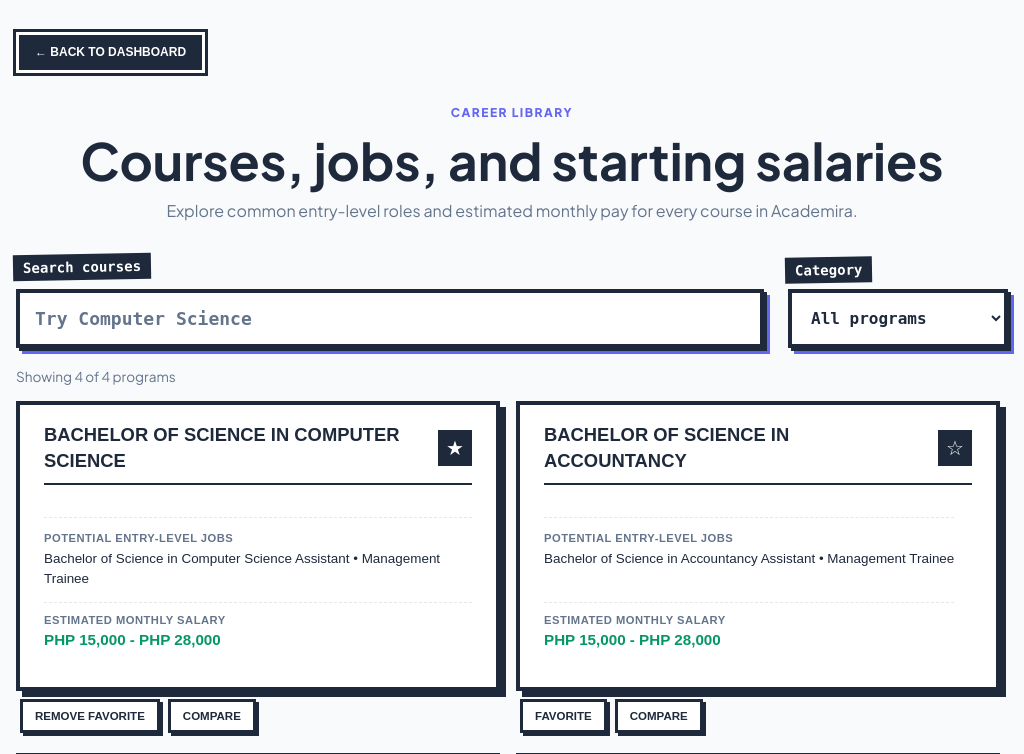
it: CareerLibrary › shows only favorite programs
The width and height of the screenshot is (1024, 754).
Select "My Favorites" in the dropdown at (898, 318), box x1=788 y1=289 x2=1008 y2=348
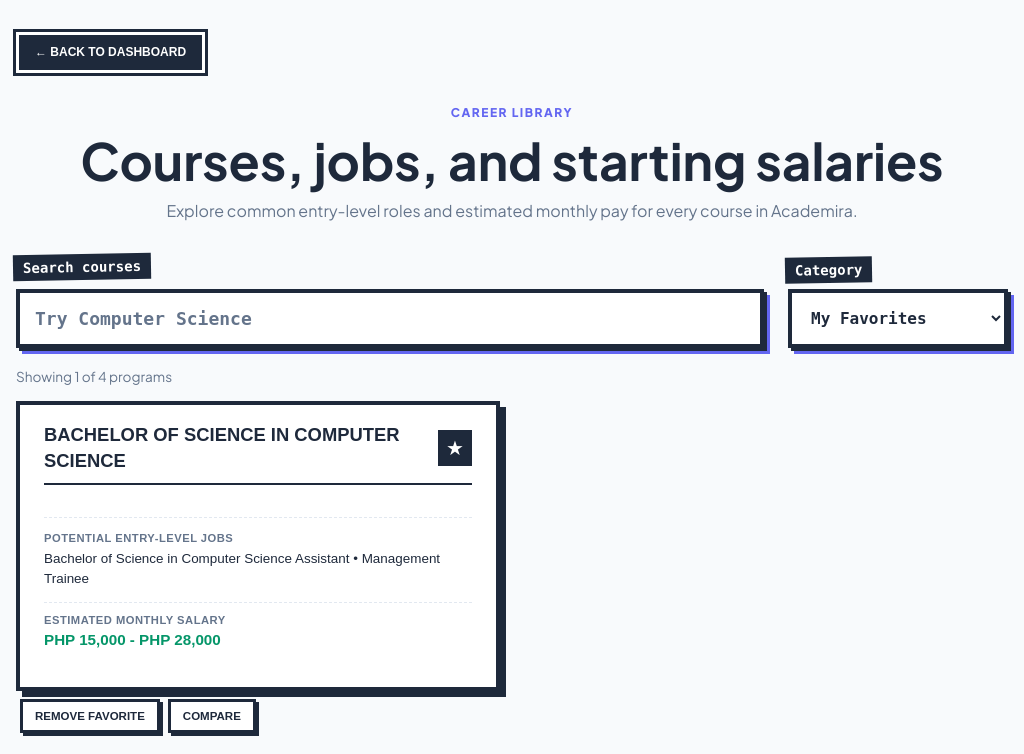
expect the heading "Bachelor of Science in Computer Science" is shown: met, box x1=44 y1=422 x2=422 y2=474
expect the text "Showing 1 of 4 programs" is shown: met, box x1=16 y1=368 x2=172 y2=385
